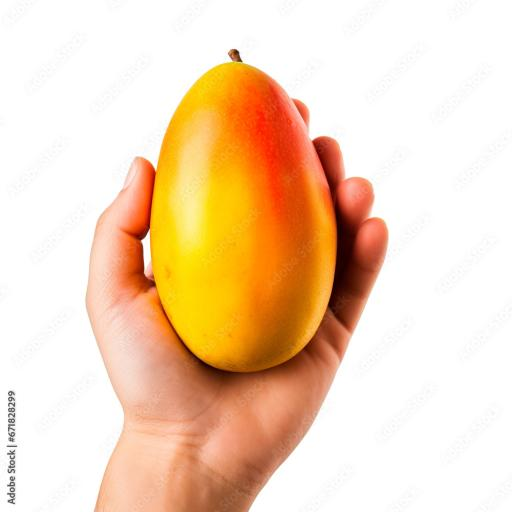mango: (151, 62, 336, 371)
